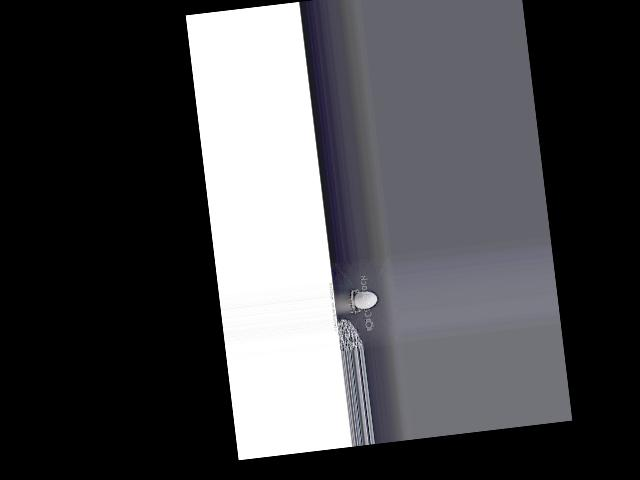egg: (352, 289, 377, 309)
